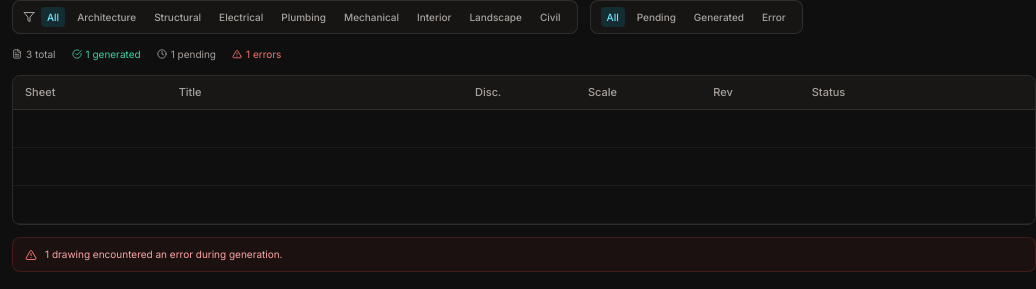
Test: DrawingRegisterPanel › filters by status
Click the button with test id "status-filter-error".
click(774, 17)  # box x1=756 y1=7 x2=792 y2=27
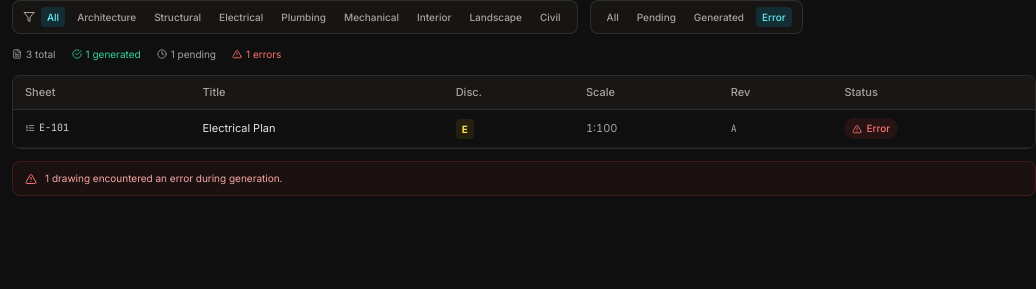
Now the text "E-101" is shown, box x1=25 y1=120 x2=69 y2=136
